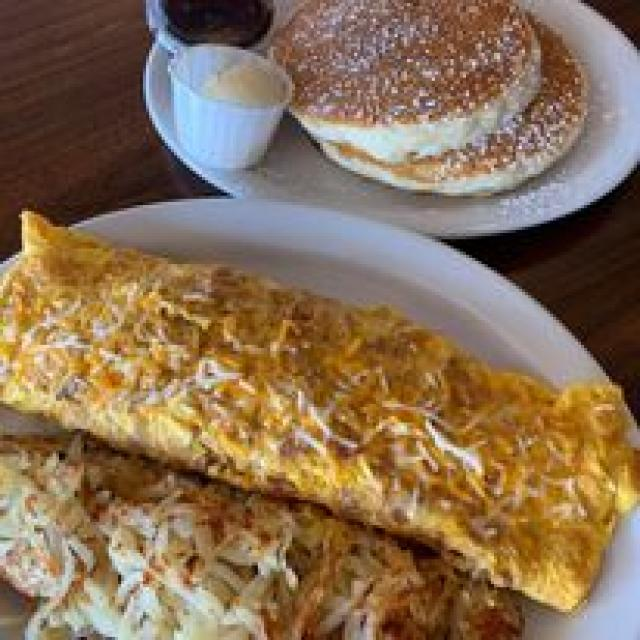Omelette: (3, 208, 631, 637)
Pancakes: (289, 0, 602, 200)
